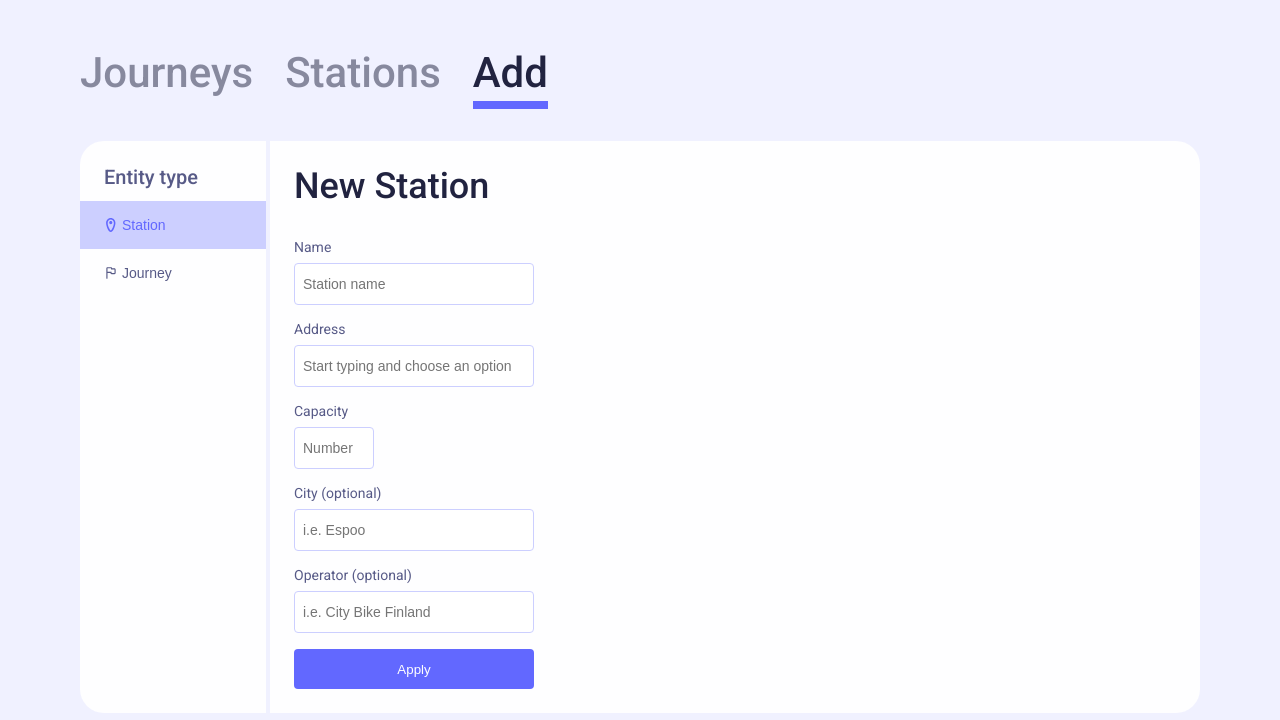
Test: New Station Form › shows errors on unfilled required fields when trying to submit clean form
This screenshot has width=1280, height=720.
Click the submit button at (414, 669), box left=294, top=649, right=534, bottom=689
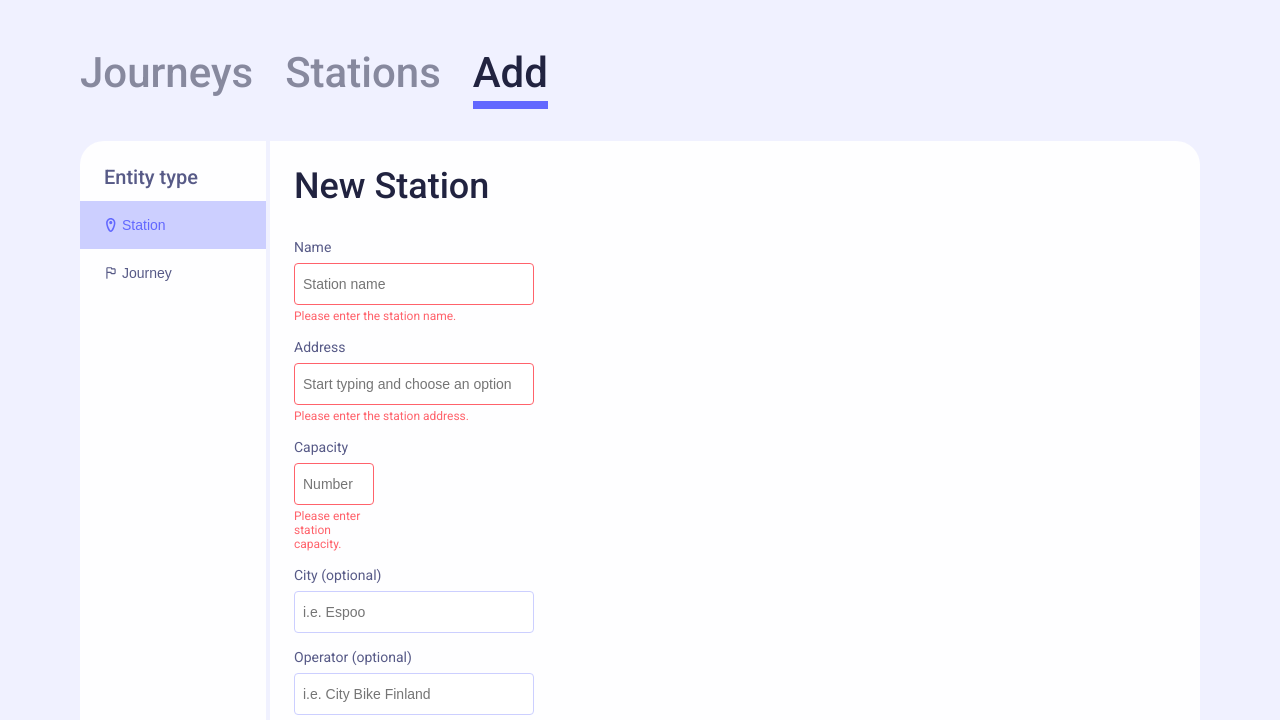
Result: the text "Please enter the station name." is shown at left=294, top=309, right=456, bottom=323
Result: the text "Please enter the station address." is shown at left=294, top=409, right=469, bottom=423
Result: the text "Please enter station capacity." is shown at left=294, top=509, right=360, bottom=551
